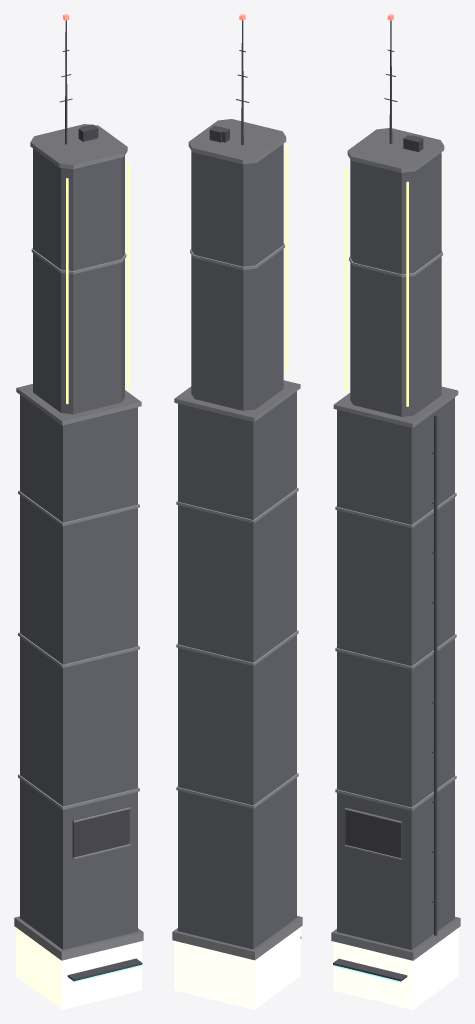
File: s10_slim.glb
3 renders of one model, left to right at view 1: azimuth 30°, elevation 25°; view 2: azimuth 150°, elevation 25°; view 3: azimuth 330°, elevation 25°, orthographic.
Parts seen in each view (by area): view 1: s10_slim; view 2: s10_slim; view 3: s10_slim.
Boxes of the visible parts, bbox=[...] form: s10_slim: bbox=[14, 14, 143, 1009]; s10_slim: bbox=[172, 14, 302, 1009]; s10_slim: bbox=[331, 14, 460, 1009].
Bounding box in the file's own units: 10.35 × 116 × 11.51.
